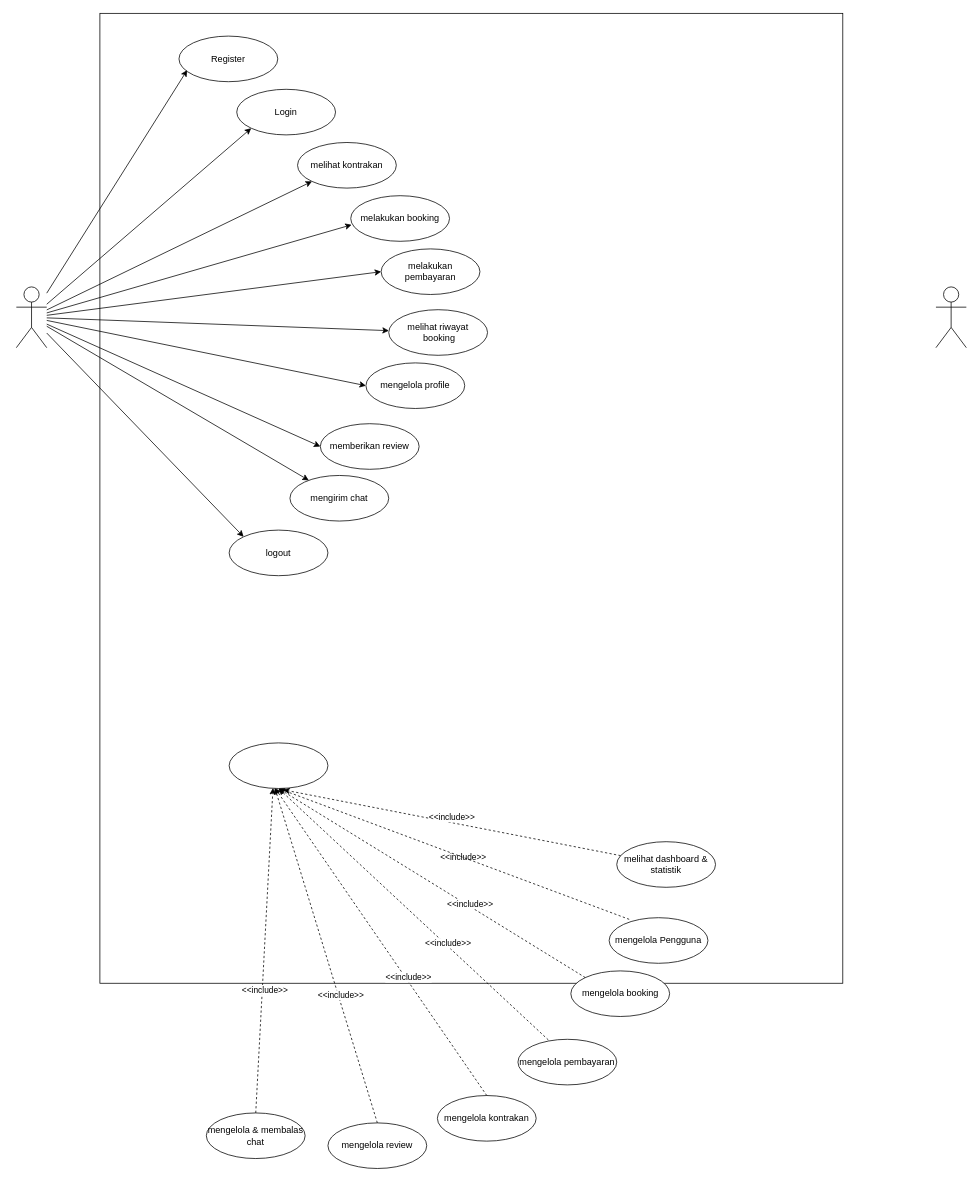
Some shapes in this 980 by 1188 pixel diagram are drawn without their labels. The box of each missing label's shape, as (x1, y1, x2, y2) in pixels:
Admin: (935, 286, 966, 348)
Login Sebagai Admin: (228, 742, 328, 788)
Penyewa: (16, 286, 47, 348)
